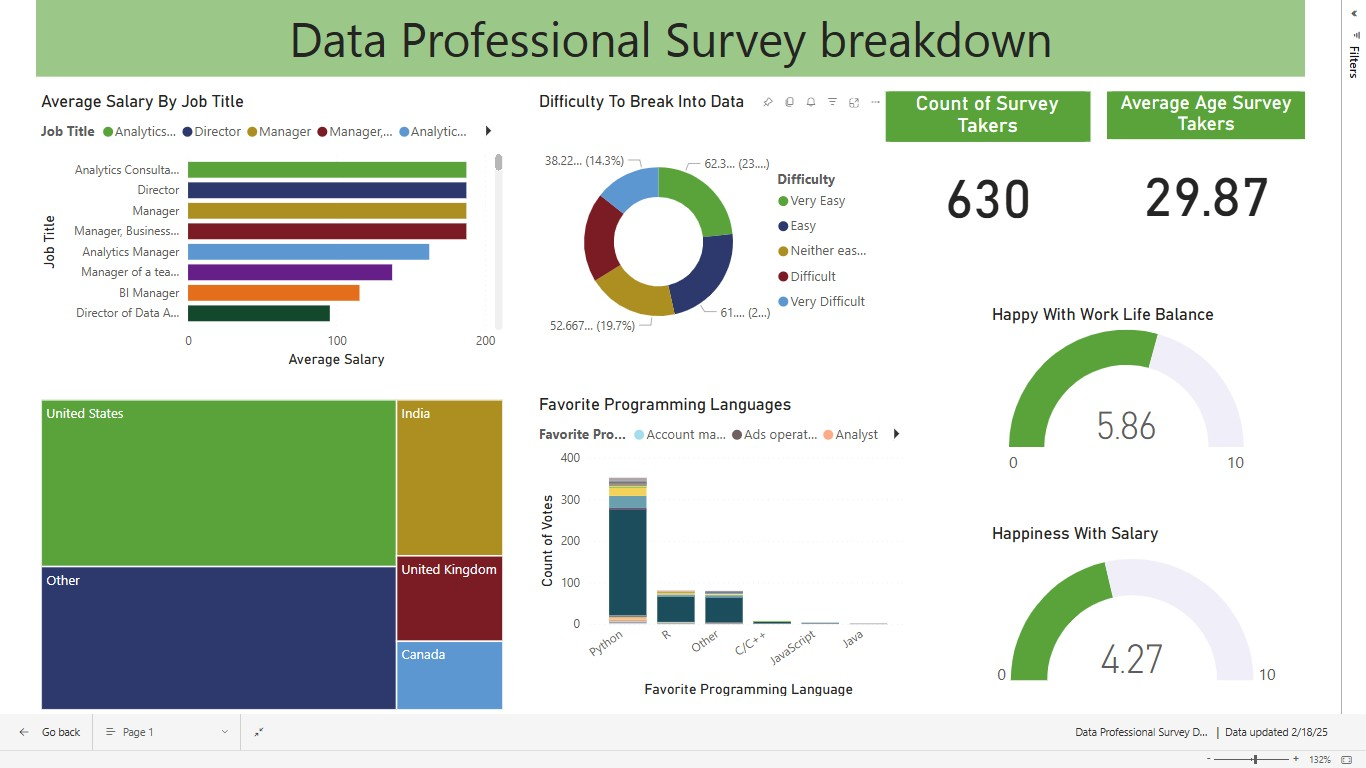

This screenshot's page, from the dashboard's own definition file:
{"tool":"powerbi","page":{"name":"Page 1","canvas":[1280,720],"ordinal":0},"visuals":[{"type":"textbox","box":[0,0,1280,77.3],"z":0},{"type":"card","title":"Count of Survey Takers","fields":{"Values":["CountNonNull(Data Professional Survey.Unique ID)"]},"box":[855,92.4,208.3,156.2],"z":1000},{"type":"card","title":"Average Age  Survey Takers","fields":{"Values":["Avg(Data Professional Survey.Q10 - Current Age)"]},"box":[1080.1,92.4,199.9,156.2],"z":2000},{"type":"barChart","title":"Average Salary By Job Title ","fields":{"Category":["Data Professional Survey.Q1 - Which Title Best Fits your Current Role?"],"Y":["Avg(Data Professional Survey.Average Salary)"],"Series":["Data Professional Survey.Q1 - Which Title Best Fits your Current Role?"]},"box":[0,92.4,475.4,282.2],"z":3000},{"type":"columnChart","title":"Favorite Programming Languages","fields":{"Category":["Data Professional Survey.Q5 - Favorite Programming Language."],"Y":["CountNonNull(Data Professional Survey.Unique ID)"],"Series":["Data Professional Survey.Q1 - Which Title Best Fits your Current Role?"]},"box":[502.3,398.1,381.3,309.1],"z":4000},{"type":"treemap","title":"Count Country do you live in by  Country ","fields":{"Group":["Data Professional Survey.Q11 - Which Country do you live in?.1"],"Values":["CountNonNull(Data Professional Survey.Q11 - Which Country do you live in?.1)"]},"box":[0,398.1,475.4,322.5],"z":5000},{"type":"gauge","title":"Happy With Work Life Balance","fields":{"Y":["Avg(Data Professional Survey.Q6 - How Happy are you in your Current Position with the following? (Coworkers))"],"MinValue":["Min(Data Professional Survey.Q6 - How Happy are you in your Current Position with the following? (Coworkers))"],"MaxValue":["Max(Data Professional Survey.Q6 - How Happy are you in your Current Position with the following? (Coworkers))"]},"box":[959.2,307.4,280.5,179.7],"z":6000},{"type":"gauge","title":"Happiness With Salary","fields":{"Y":["Avg(Data Professional Survey.Q6 - How Happy are you in your Current Position with the following? (Salary))"],"MinValue":["Min(Data Professional Survey.Q6 - How Happy are you in your Current Position with the following? (Salary))"],"MaxValue":["Max(Data Professional Survey.Q6 - How Happy are you in your Current Position with the following? (Salary))"]},"box":[959.2,527.5,300.7,179.7],"z":7000},{"type":"donutChart","title":"Difficulty To Break Into Data","fields":{"Category":["Data Professional Survey.Q7 - How difficult was it for you to break into Data?"],"Y":["Avg(Data Professional Survey.Average Salary)"]},"box":[502.3,92.4,354.4,282.2],"z":8000}]}

Visuals, with their boxes on the page's 1280x720 design canvas (x1, y1, x2, y2). These are canvas units, not pixel positions in the 1366x768 screenshot, which may show the page scaled, cropped or inside an application window:
textbox: {"x1": 0, "y1": 0, "x2": 1280, "y2": 77}
"Count of Survey Takers" card: {"x1": 855, "y1": 92, "x2": 1063, "y2": 249}
"Average Age  Survey Takers" card: {"x1": 1080, "y1": 92, "x2": 1280, "y2": 249}
"Average Salary By Job Title " barChart: {"x1": 0, "y1": 92, "x2": 475, "y2": 375}
"Favorite Programming Languages" columnChart: {"x1": 502, "y1": 398, "x2": 884, "y2": 707}
"Count Country do you live in by  Country " treemap: {"x1": 0, "y1": 398, "x2": 475, "y2": 721}
"Happy With Work Life Balance" gauge: {"x1": 959, "y1": 307, "x2": 1240, "y2": 487}
"Happiness With Salary" gauge: {"x1": 959, "y1": 528, "x2": 1260, "y2": 707}
"Difficulty To Break Into Data" donutChart: {"x1": 502, "y1": 92, "x2": 857, "y2": 375}
